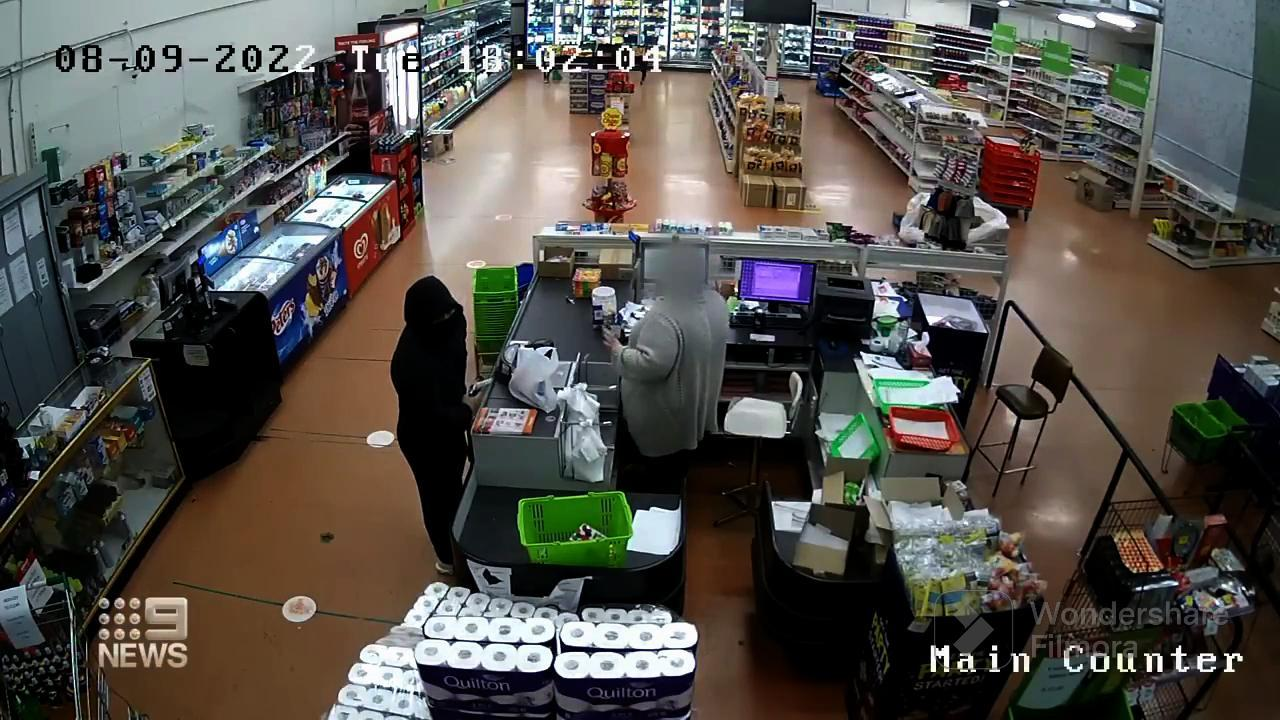gun: (460, 369, 502, 404)
